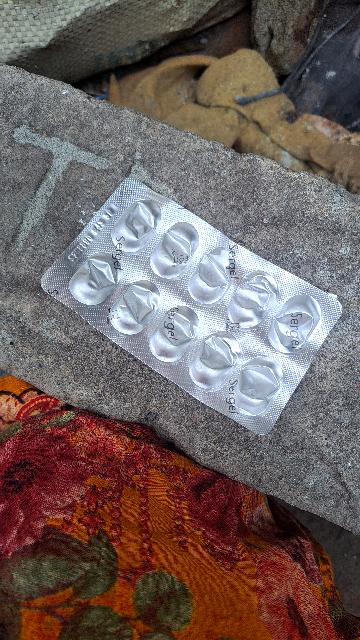medicine: (6, 146, 356, 441)
